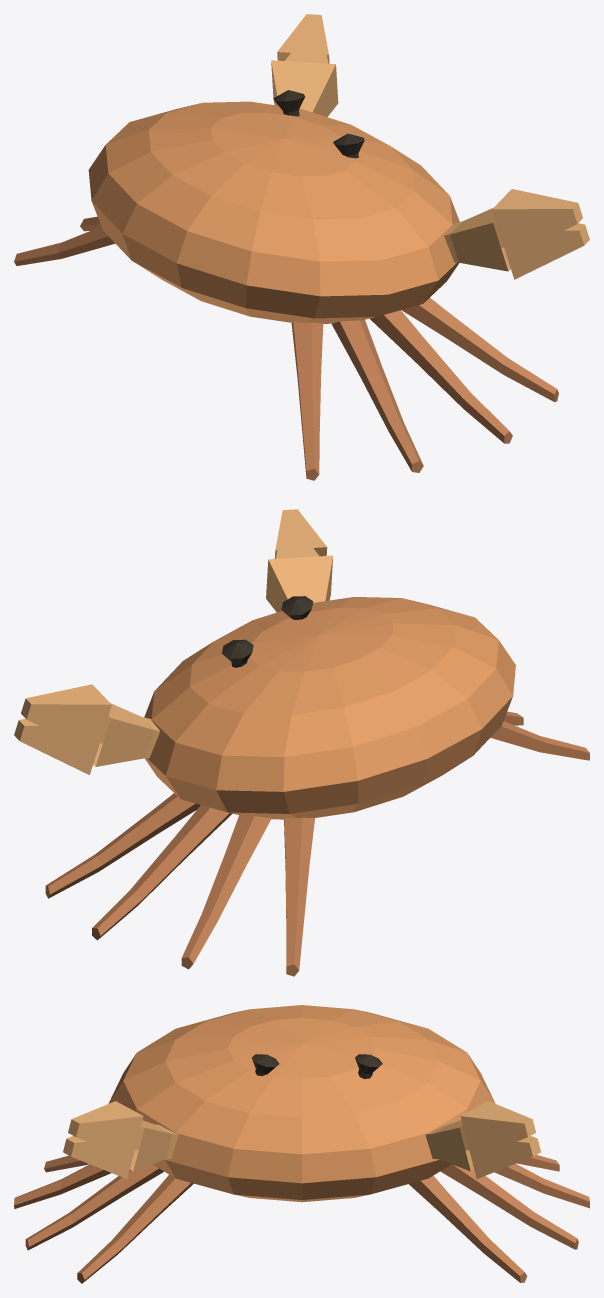
The model's file is 36-Fauna_cangrejo_playa.glb.
3 views of the same model, one above another, from view 1: azimuth 30°, elevation 25°; view 2: azimuth 150°, elevation 25°; view 3: azimuth 270°, elevation 25° (orthographic). The views are drawn at different scales.
Visible parts, largest first — view 1: SM_Cangrejo_M_Cangrejo_Caparazon, SM_Cangrejo_M_Cangrejo_Patas, SM_Cangrejo_M_Cangrejo_Pinza, SM_Cangrejo_M_Cangrejo_Ojos; view 2: SM_Cangrejo_M_Cangrejo_Caparazon, SM_Cangrejo_M_Cangrejo_Patas, SM_Cangrejo_M_Cangrejo_Pinza, SM_Cangrejo_M_Cangrejo_Ojos; view 3: SM_Cangrejo_M_Cangrejo_Caparazon, SM_Cangrejo_M_Cangrejo_Patas, SM_Cangrejo_M_Cangrejo_Pinza, SM_Cangrejo_M_Cangrejo_Ojos.
Boxes of the visible parts, bbox=[...] form: SM_Cangrejo_M_Cangrejo_Caparazon: bbox=[88, 101, 459, 323]; SM_Cangrejo_M_Cangrejo_Patas: bbox=[14, 216, 558, 480]; SM_Cangrejo_M_Cangrejo_Pinza: bbox=[271, 14, 589, 279]; SM_Cangrejo_M_Cangrejo_Ojos: bbox=[273, 90, 364, 158]; SM_Cangrejo_M_Cangrejo_Caparazon: bbox=[144, 597, 515, 819]; SM_Cangrejo_M_Cangrejo_Patas: bbox=[45, 711, 589, 976]; SM_Cangrejo_M_Cangrejo_Pinza: bbox=[14, 509, 333, 774]; SM_Cangrejo_M_Cangrejo_Ojos: bbox=[222, 596, 313, 667]; SM_Cangrejo_M_Cangrejo_Caparazon: bbox=[108, 1005, 495, 1202]; SM_Cangrejo_M_Cangrejo_Patas: bbox=[14, 1155, 589, 1283]; SM_Cangrejo_M_Cangrejo_Pinza: bbox=[63, 1101, 540, 1178]; SM_Cangrejo_M_Cangrejo_Ojos: bbox=[251, 1054, 382, 1079].
Size of the model in its own units: 0.616 by 0.3779 by 1.06.
